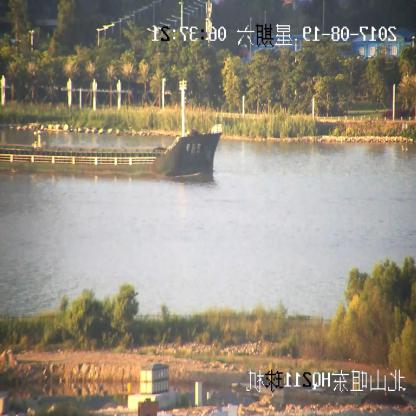Bulk Carrier: (0, 84, 223, 175)
